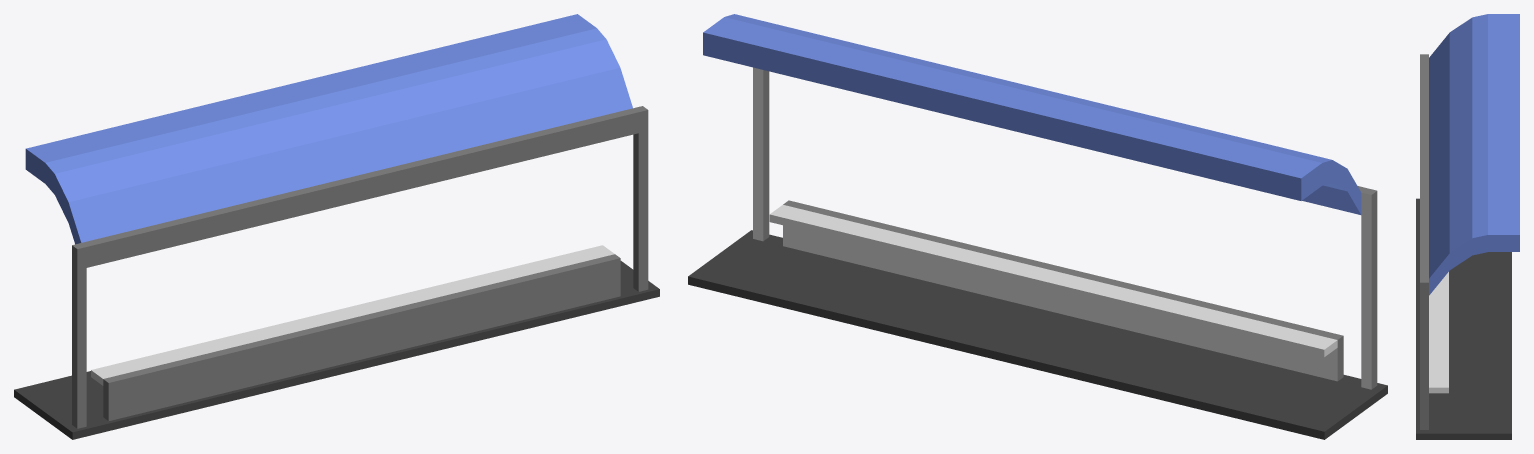
The model's file is Stands.fbx.
3 views of the same model, side by side, from view 1: azimuth 30°, elevation 25°; view 2: azimuth 150°, elevation 25°; view 3: azimuth 270°, elevation 25° (orthographic). The views are drawn at different scales.
Visible parts, largest first — view 1: Cube; view 2: Cube; view 3: Cube.
Part boxes in pixels (x1,y1,x2,y2): Cube: (14, 14, 659, 439); Cube: (688, 14, 1387, 439); Cube: (1416, 14, 1519, 439).
Bounding box in the file's own units: 5966 × 2338 × 1115.
